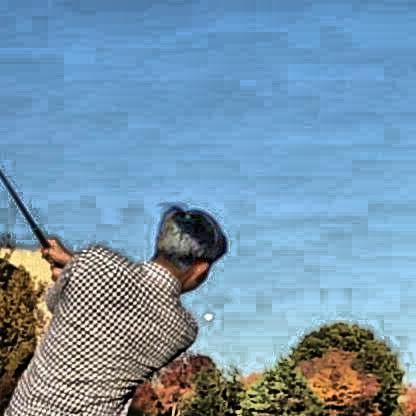golfball: (200, 309, 214, 319)
